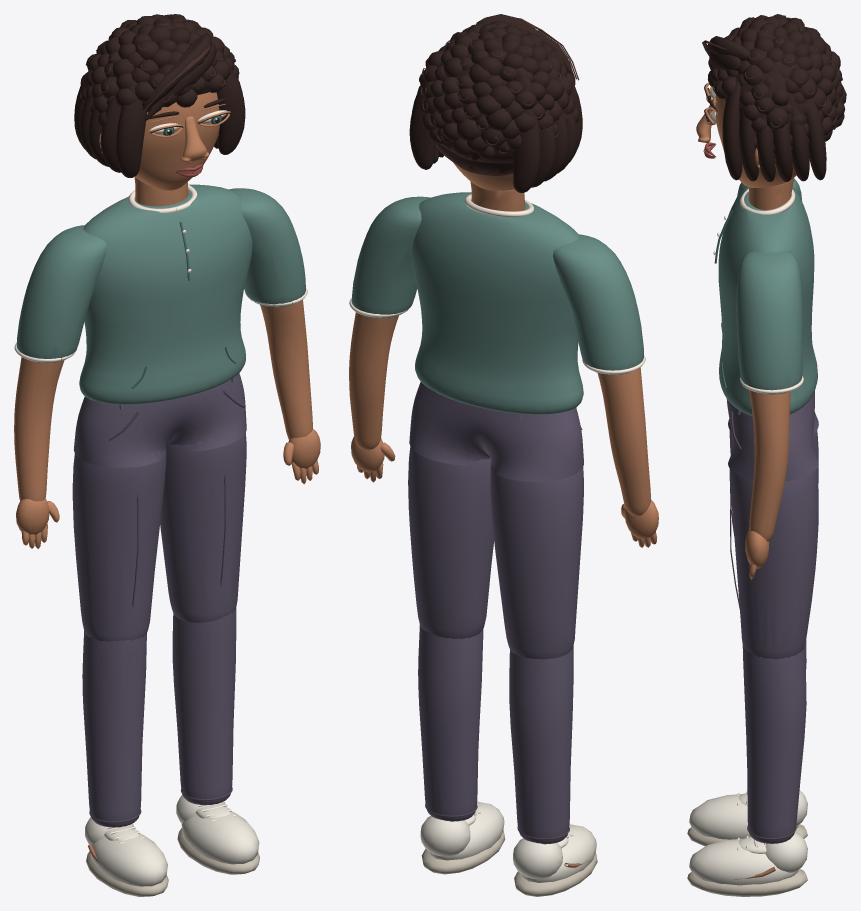
File: character_broad_lod.glb
3 views of the same model, side by side, from view 1: azimuth 30°, elevation 25°; view 2: azimuth 150°, elevation 25°; view 3: azimuth 270°, elevation 25° (orthographic).
Visible parts, largest first — view 1: Top_Blouse, Bottom_Thigh_-1, Bottom_Thigh_1, Bottom_Shin_-1, Bottom_Shin_1, Bottom_Hip, Top_Sleeve_L, Top_Sleeve_R, Skin_Forearm_L, Skin_Forearm_R, Skin_Face, Shoes_Upper_1 (+10 smaller); view 2: Top_Blouse, Bottom_Thigh_-1, Bottom_Thigh_1, Bottom_Hip, Bottom_Shin_-1, Bottom_Shin_1, Top_Sleeve_L, Top_Sleeve_R, Skin_Forearm_L, Skin_Forearm_R, Shoes_Heel_1, Shoes_Heel_-1 (+13 smaller); view 3: Bottom_Thigh_1, Bottom_Shin_1, Top_Blouse, Top_Sleeve_R, Skin_Forearm_R, Bottom_Hip, Shoes_Upper_1, Shoes_Upper_-1, Shoes_Sole_1, Hair_Bob_Lock.006, Hair_Bob_Lock.011, Shoes_Heel_1 (+15 smaller).
Part boxes in pixels (bbox=[...]): Top_Blouse: bbox=[79, 184, 252, 404]; Bottom_Thigh_-1: bbox=[72, 448, 166, 641]; Bottom_Thigh_1: bbox=[160, 432, 246, 622]; Bottom_Shin_-1: bbox=[82, 631, 146, 827]; Bottom_Shin_1: bbox=[172, 608, 236, 805]; Bottom_Hip: bbox=[73, 373, 246, 467]; Top_Sleeve_L: bbox=[16, 225, 106, 363]; Top_Sleeve_R: bbox=[229, 188, 305, 307]; Skin_Forearm_L: bbox=[14, 357, 64, 501]; Skin_Forearm_R: bbox=[260, 300, 312, 439]; Skin_Face: bbox=[135, 92, 219, 190]; Shoes_Upper_1: bbox=[181, 811, 259, 864]; Top_Blouse: bbox=[412, 192, 583, 414]; Bottom_Thigh_-1: bbox=[490, 462, 583, 659]; Bottom_Thigh_1: bbox=[408, 447, 494, 638]; Bottom_Hip: bbox=[409, 382, 583, 481]; Bottom_Shin_-1: bbox=[509, 646, 573, 844]; Bottom_Shin_1: bbox=[418, 625, 483, 821]; Top_Sleeve_L: bbox=[553, 234, 643, 374]; Top_Sleeve_R: bbox=[351, 196, 429, 318]; Skin_Forearm_L: bbox=[597, 367, 650, 515]; Skin_Forearm_R: bbox=[349, 312, 398, 450]; Shoes_Heel_1: bbox=[420, 816, 470, 856]; Shoes_Heel_-1: bbox=[513, 838, 562, 878]; Bottom_Thigh_1: bbox=[729, 469, 818, 659]; Bottom_Shin_1: bbox=[742, 645, 806, 843]; Top_Blouse: bbox=[718, 186, 817, 415]; Top_Sleeve_R: bbox=[736, 250, 802, 394]; Skin_Forearm_R: bbox=[749, 390, 790, 541]; Bottom_Hip: bbox=[726, 390, 818, 481]; Shoes_Upper_1: bbox=[689, 838, 798, 885]; Shoes_Upper_-1: bbox=[689, 794, 798, 839]; Shoes_Sole_1: bbox=[687, 869, 807, 896]; Hair_Bob_Lock.006: bbox=[722, 75, 742, 180]; Hair_Bob_Lock.011: bbox=[806, 98, 826, 180]; Shoes_Heel_1: bbox=[765, 832, 807, 872].
Size of the model in its own units: 0.6677 by 1.78 by 0.3035.
